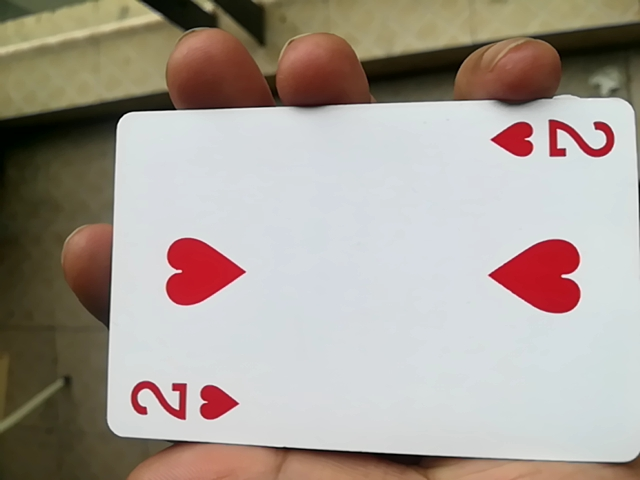hx 2: (88, 104, 636, 472)
